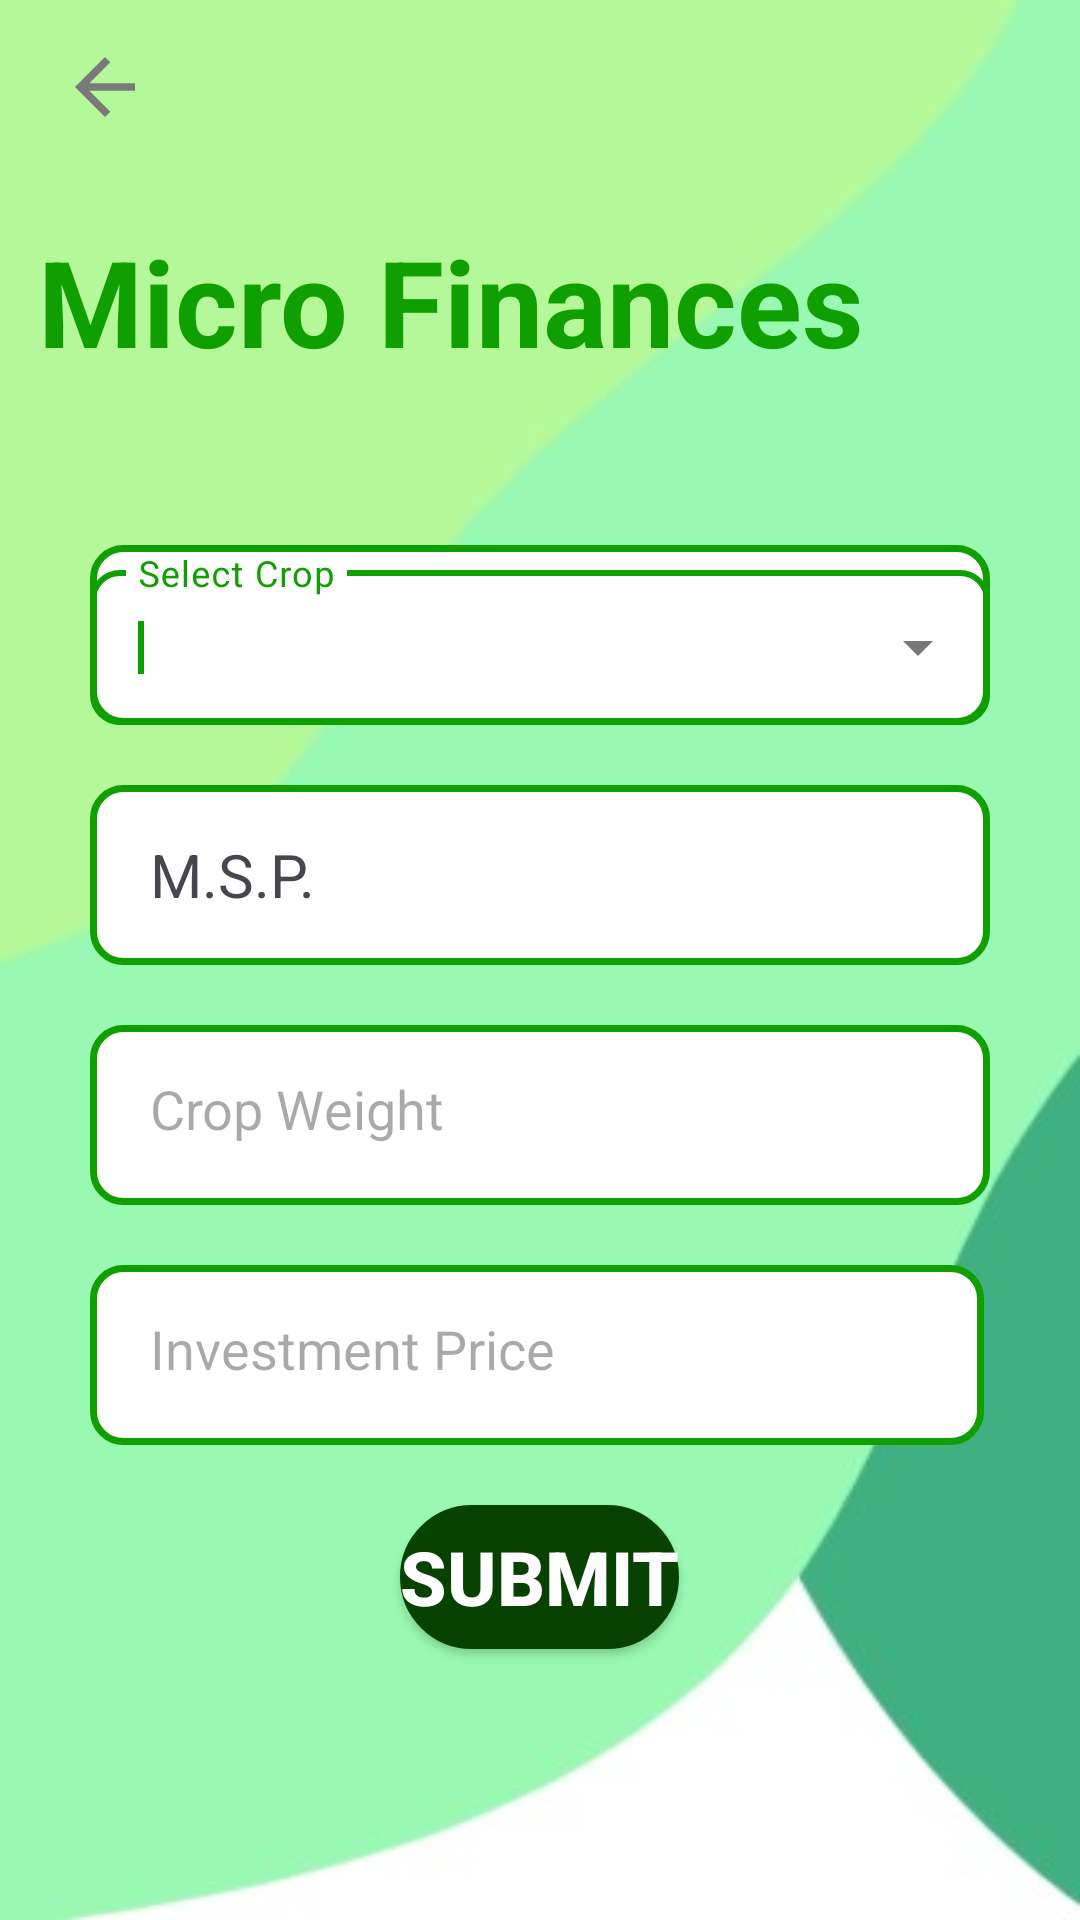

Icon click points for this 1080w x 1920h phone screenshot, format point (x, y):
arrow back: point (105, 87)
